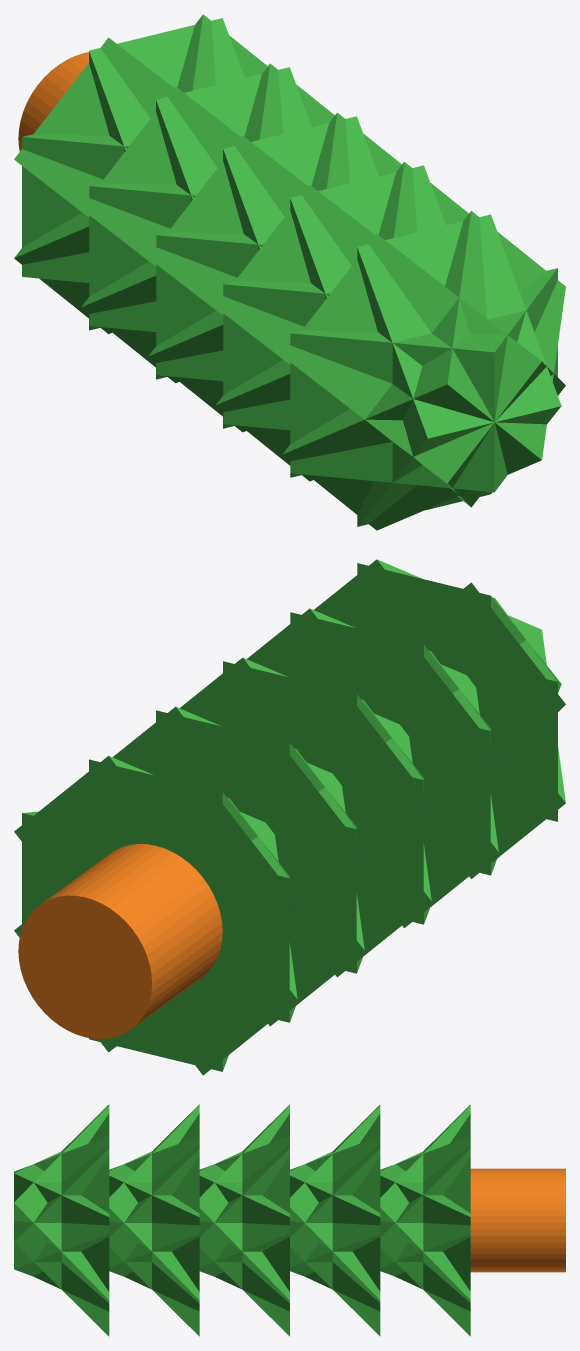
File: treeD.obj
3 views of the same model, one above another, from view 1: azimuth 30°, elevation 25°; view 2: azimuth 150°, elevation 25°; view 3: azimuth 270°, elevation 25° (orthographic). The views are drawn at different scales.
Visible parts, largest first — view 1: group_0_4634441, group_0_16089887; view 2: group_0_4634441, group_0_16089887; view 3: group_0_4634441, group_0_16089887.
Boxes of the visible parts, bbox=[...] form: group_0_4634441: bbox=[14, 14, 565, 530]; group_0_16089887: bbox=[18, 52, 88, 151]; group_0_4634441: bbox=[14, 559, 565, 1075]; group_0_16089887: bbox=[18, 844, 222, 1039]; group_0_4634441: bbox=[14, 1104, 470, 1336]; group_0_16089887: bbox=[470, 1168, 565, 1272].
Size of the model in its own units: 20 by 20 by 50.
